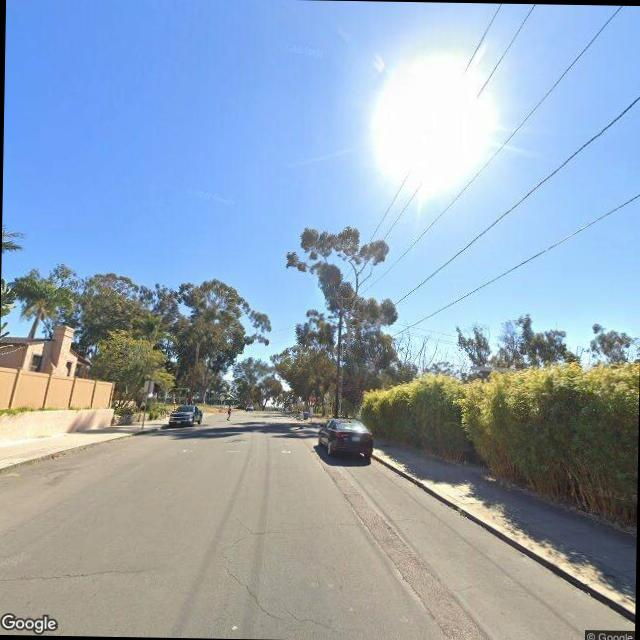crack: (0, 550, 201, 589), (242, 508, 424, 536), (217, 536, 276, 620)
